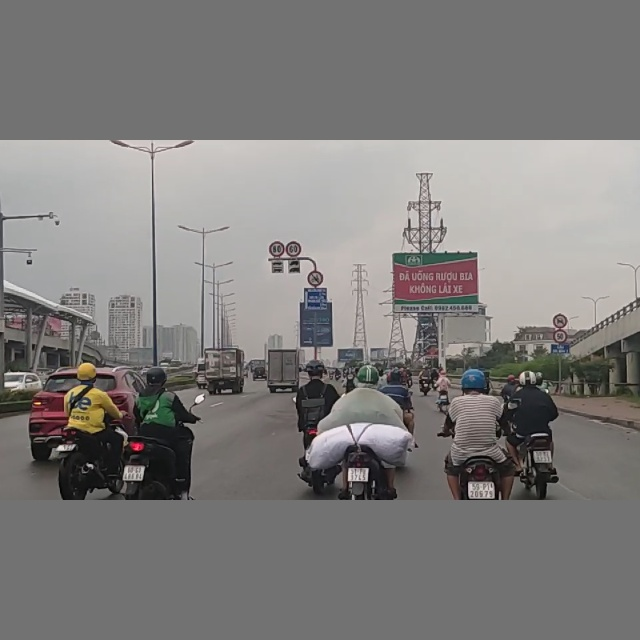P.103a: (553, 315, 568, 328)
P.104: (306, 270, 324, 287)
P.127*50: (554, 329, 568, 344)
P.127*60: (286, 241, 301, 256)
P.127*80: (270, 241, 286, 257)
